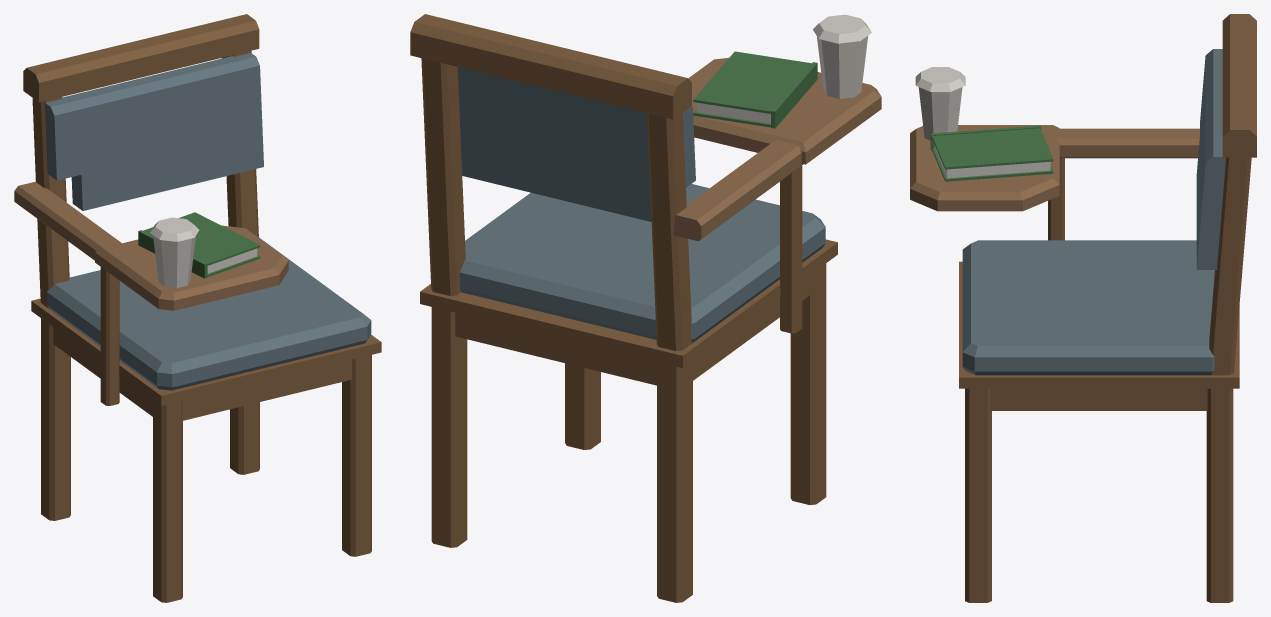
Rendered from dorm-desk-chair-9b4076.glb.
3 renders of one model, left to right at view 1: azimuth 30°, elevation 25°; view 2: azimuth 150°, elevation 25°; view 3: azimuth 270°, elevation 25°, orthographic. The views are drawn at different scales.
Visible parts, largest first — view 1: chair, dressing-mesh; view 2: chair, dressing-mesh; view 3: chair, dressing-mesh.
Part boxes in pixels (x1,y1,x2,y2): chair: (14,14,381,602); dressing-mesh: (138,212,260,288); chair: (410,14,881,602); dressing-mesh: (693,14,871,128); chair: (910,14,1256,602); dressing-mesh: (915,67,1053,181).
Bounding box in the file's own units: 0.49 × 0.86 × 0.5685.
